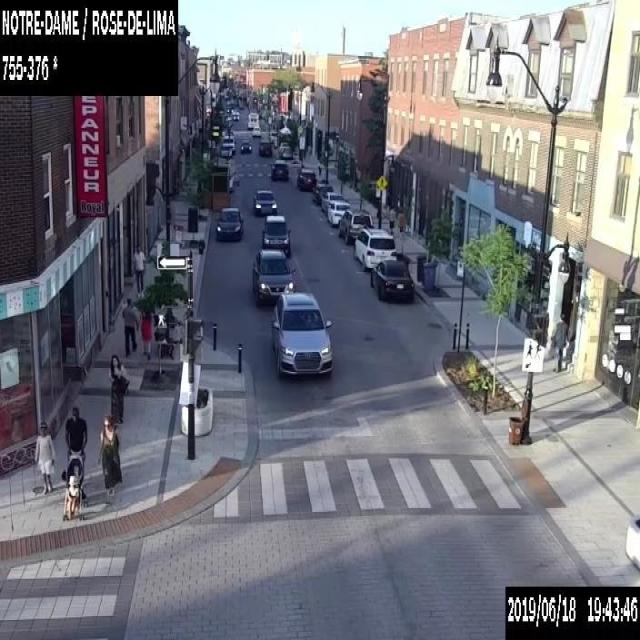bus: (247, 112, 258, 128)
pedestrian: (61, 405, 87, 520), (100, 415, 120, 502), (34, 420, 56, 495), (108, 353, 129, 422), (120, 297, 140, 356), (137, 297, 153, 360), (131, 243, 146, 296), (396, 206, 406, 239), (387, 206, 396, 235), (317, 162, 321, 178)
vehicle: (271, 292, 332, 378), (251, 249, 295, 306), (353, 228, 396, 272), (370, 260, 414, 302), (262, 215, 290, 256), (338, 209, 372, 242), (215, 206, 243, 241), (252, 189, 276, 214), (328, 202, 350, 224), (312, 183, 332, 206), (296, 168, 316, 191), (322, 191, 342, 213), (270, 159, 288, 181), (257, 139, 272, 156), (222, 134, 235, 152), (280, 146, 292, 158), (220, 143, 231, 156), (278, 142, 289, 154), (240, 140, 250, 152), (251, 125, 260, 136), (269, 131, 277, 142), (231, 111, 239, 120), (225, 105, 232, 112)
